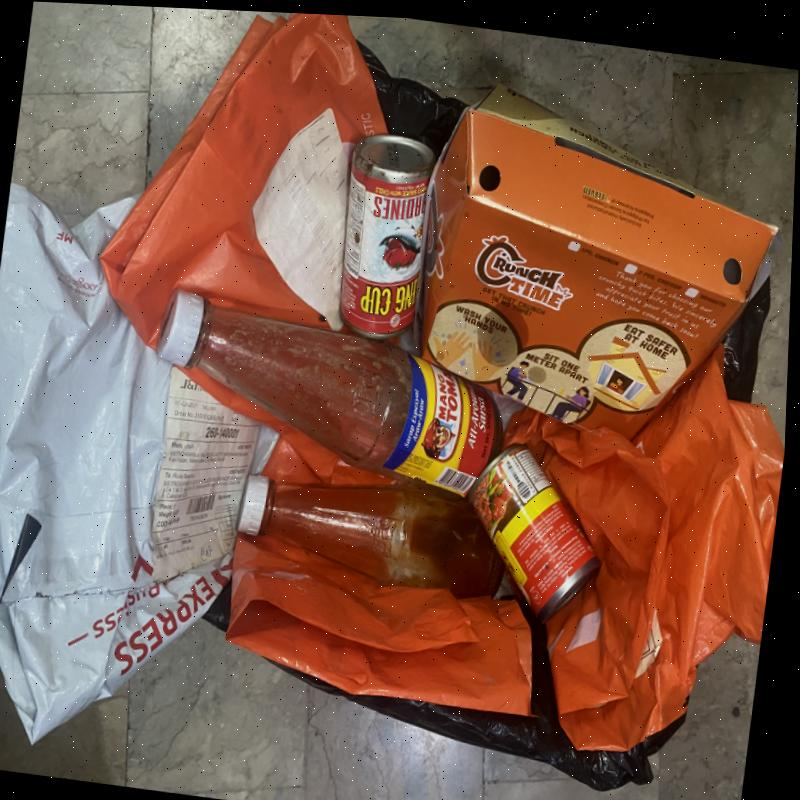aluminum: (469, 443, 601, 624), (339, 134, 437, 340)
cardboard: (413, 85, 777, 438)
glass bottle: (157, 290, 503, 500), (238, 474, 505, 598)
plastic bag: (0, 177, 280, 745), (503, 346, 785, 751), (101, 13, 389, 350), (226, 429, 534, 716), (181, 366, 339, 472)
